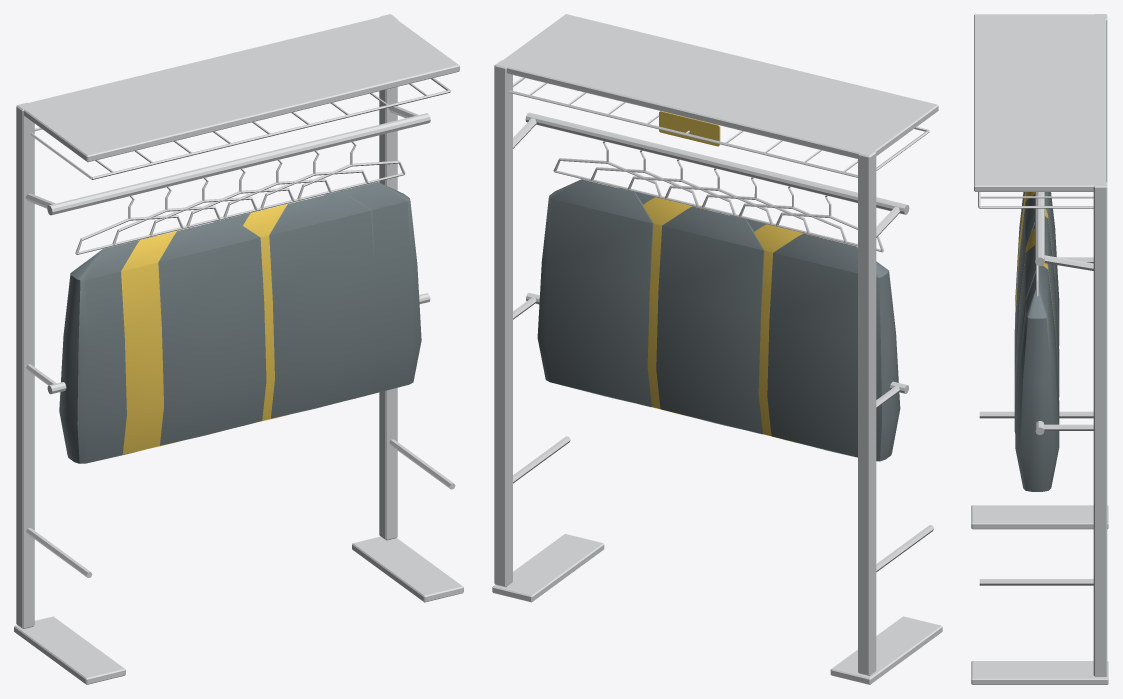
The model's file is laundrette-and-cleaning-hanger-rail-run-709d1511__25560.glb.
3 views of the same model, side by side, from view 1: azimuth 30°, elevation 25°; view 2: azimuth 150°, elevation 25°; view 3: azimuth 270°, elevation 25° (orthographic). The views are drawn at different scales.
Parts seen in each view (by area): view 1: hanger-rail-run; view 2: hanger-rail-run; view 3: hanger-rail-run.
Boxes of the visible parts, box(x1,y1,x2,y2) form: hanger-rail-run: box(14, 14, 463, 684); hanger-rail-run: box(492, 14, 942, 684); hanger-rail-run: box(971, 14, 1108, 684).
Bounding box in the file's own units: 1.5 × 2 × 0.5001.
